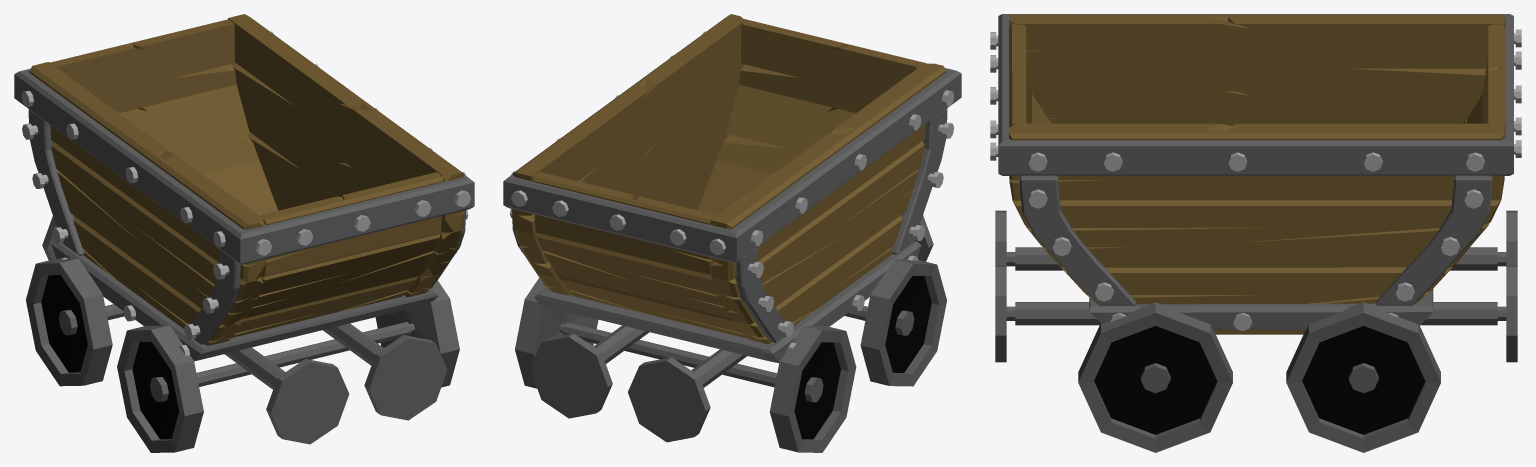
Rendered from vagon_tahta.fbx.
The picture shows the model from 3 angles, left to right: view 1: azimuth 30°, elevation 25°; view 2: azimuth 150°, elevation 25°; view 3: azimuth 270°, elevation 25°; orthographic projection. The views are drawn at different scales.
Parts seen in each view (by area): view 1: Cylinder.005, Cube.002, Cylinder.007, Cylinder, Cylinder.019; view 2: Cylinder.005, Cube.002, Cylinder.007, Cylinder, Cylinder.019; view 3: Cylinder.005, Cube.002, Cylinder.007, Cylinder, Cylinder.019.
Boxes of the visible parts, x1=… form: Cylinder.005: x1=29, y1=14, x2=464, y2=345; Cube.002: x1=14, y1=68, x2=474, y2=361; Cylinder.007: x1=26, y1=258, x2=459, y2=452; Cylinder: x1=42, y1=216, x2=447, y2=444; Cylinder.019: x1=21, y1=31, x2=470, y2=355; Cylinder.005: x1=512, y1=14, x2=945, y2=343; Cube.002: x1=503, y1=18, x2=961, y2=362; Cylinder.007: x1=515, y1=259, x2=946, y2=452; Cylinder: x1=530, y1=215, x2=933, y2=442; Cylinder.019: x1=510, y1=31, x2=954, y2=349; Cylinder.005: x1=1009, y1=14, x2=1505, y2=334; Cube.002: x1=998, y1=14, x2=1513, y2=330; Cylinder.007: x1=1078, y1=302, x2=1440, y2=452; Cylinder: x1=995, y1=210, x2=1517, y2=362; Cylinder.019: x1=990, y1=29, x2=1521, y2=331.
Bounding box in the file's own units: 386 × 357 × 565.
